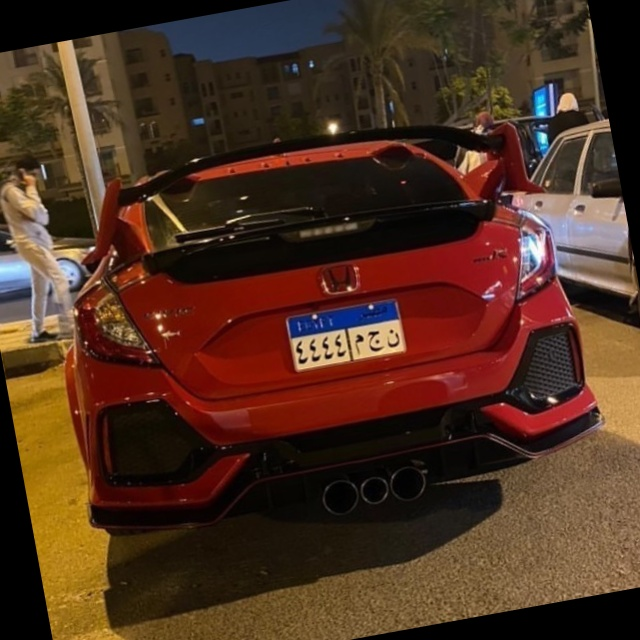License Plate: (281, 294, 412, 377)
